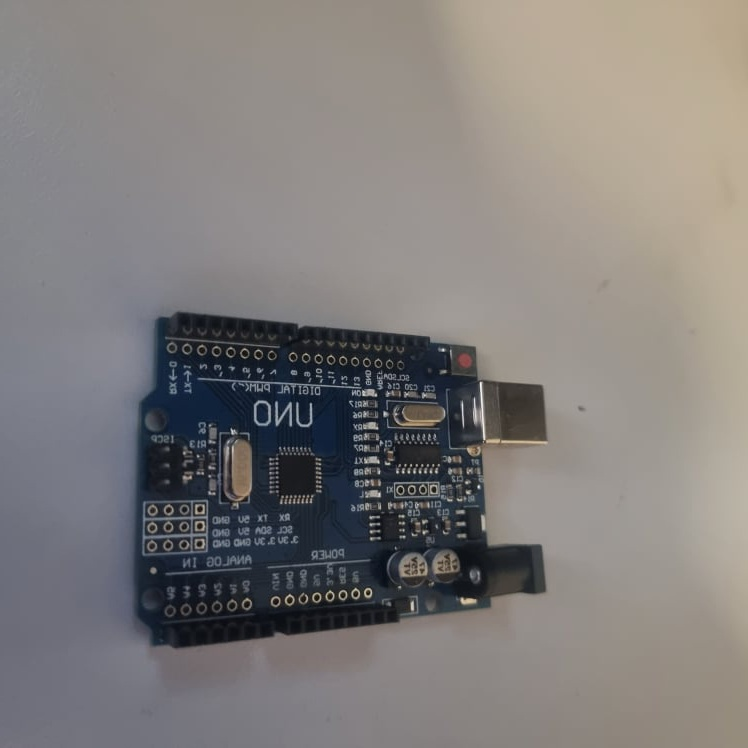UNO R3: (126, 309, 552, 651)
